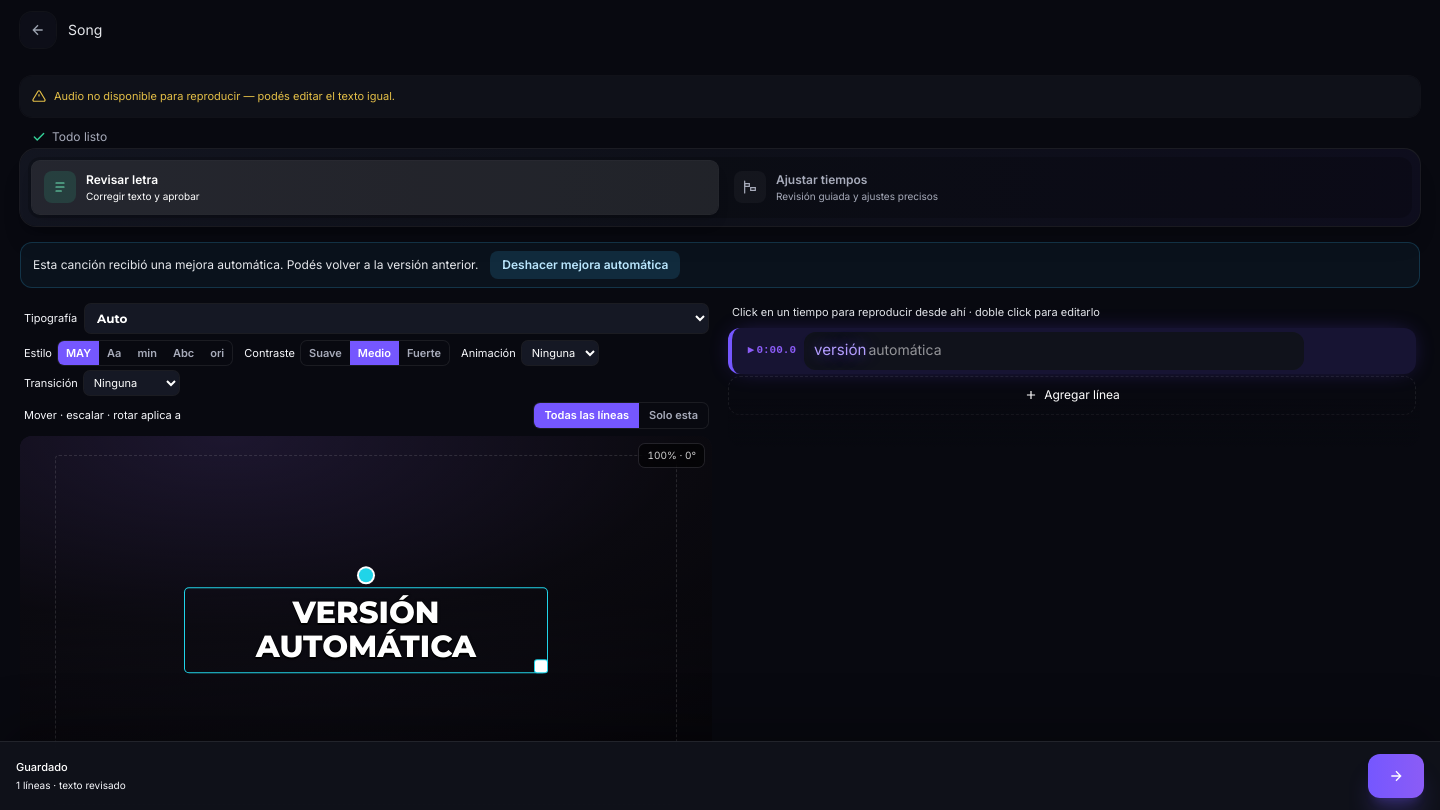
Test: automatic repair undo in the editor › restores the prior version and hides undo after success
This screenshot has width=1440, height=810.
Click the button "Deshacer mejora automática": {"x": 585, "y": 264} [490,250,680,278]
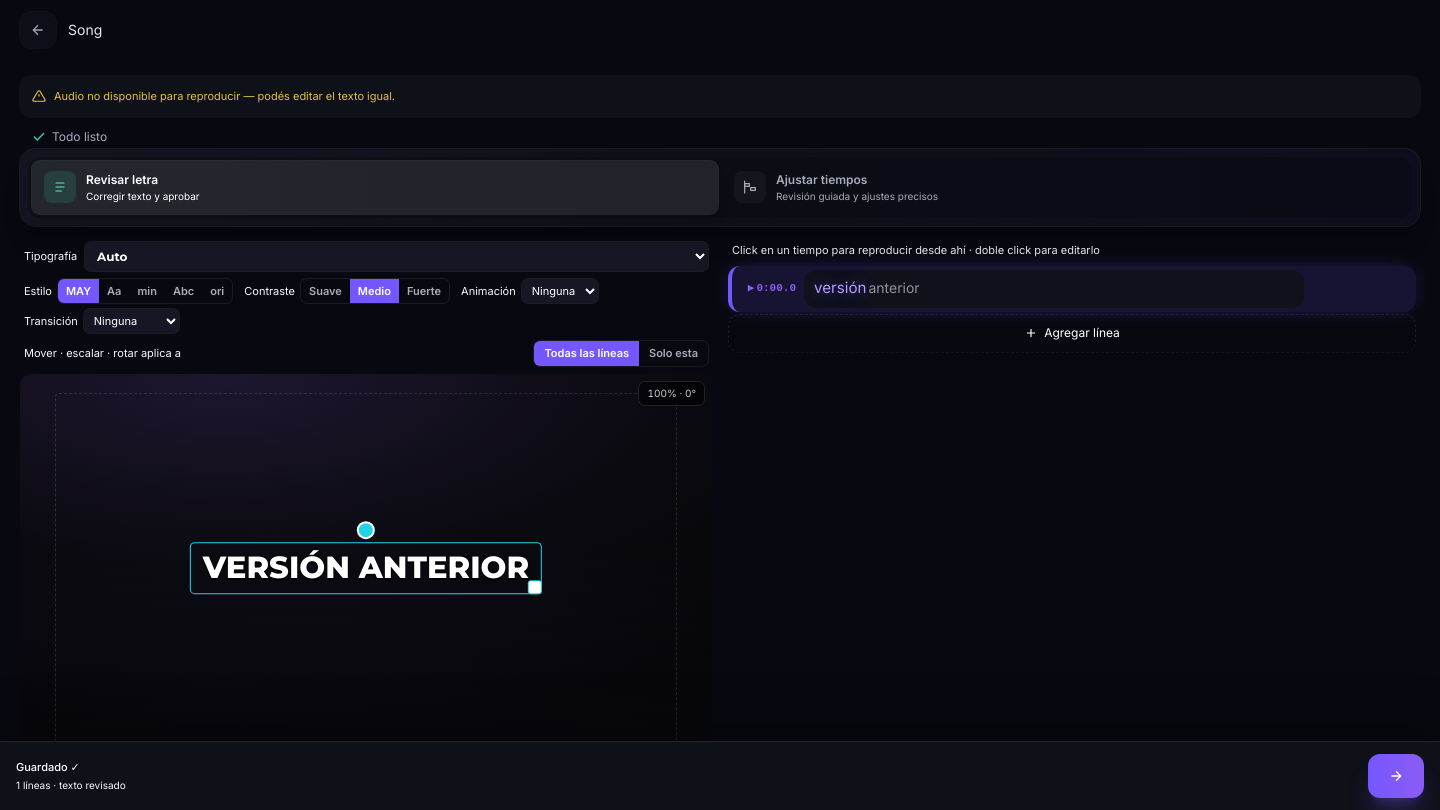
Expected: the field showing "versión anterior" is shown, [804,270,1304,308]
Expected: the button "Deshacer mejora automática" is gone
